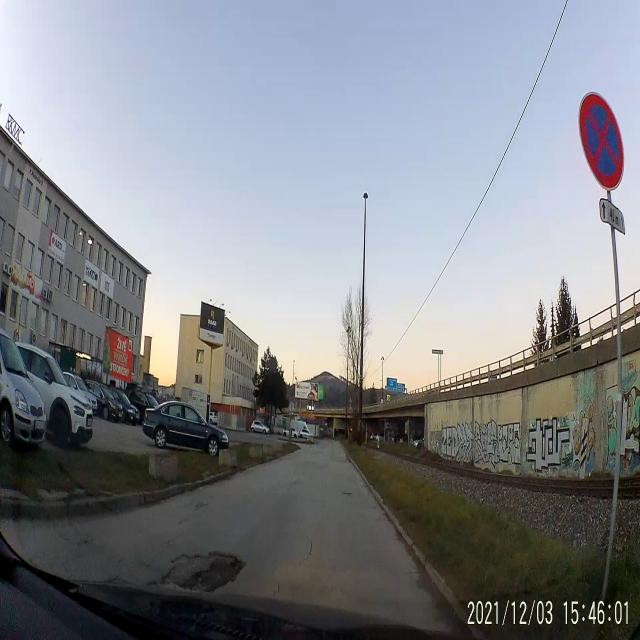Pothole: (166, 552, 244, 595)
